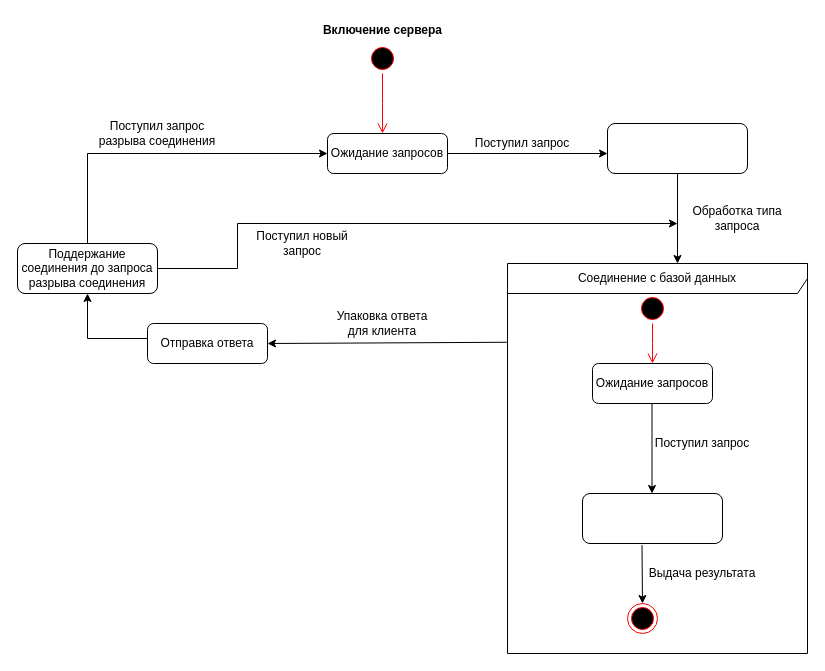
Image size: 825x671. Some labels were removed from this diagram. The shapes that lost their labels are listed below. From the top down, each one's centre as x and y in pixels, then its label:
At (x=677, y=148): "Создание Асинхронного соединения".
At (x=652, y=518): "Асинхронное выполнение запроса".
